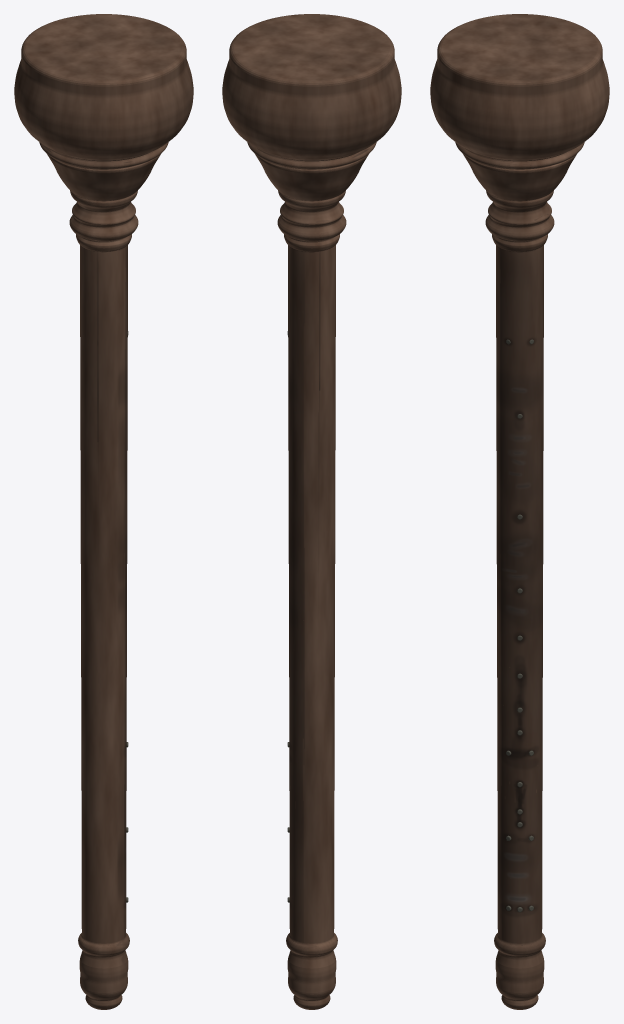
Rendered from Luotipuntari.fbx.
The picture shows the model from 3 angles, left to right: view 1: azimuth 30°, elevation 25°; view 2: azimuth 150°, elevation 25°; view 3: azimuth 270°, elevation 25°; orthographic projection.
Parts seen in each view (by area): view 1: Cylinder.012; view 2: Cylinder.012; view 3: Cylinder.012.
Boxes of the visible parts, x1,y1,x2,y2 form: Cylinder.012: [14, 14, 193, 1009]; Cylinder.012: [222, 14, 401, 1009]; Cylinder.012: [430, 14, 609, 1009].
Bounding box in the file's own units: 258 × 1517 × 258.
Materials: 2 (2 with a texture image).
